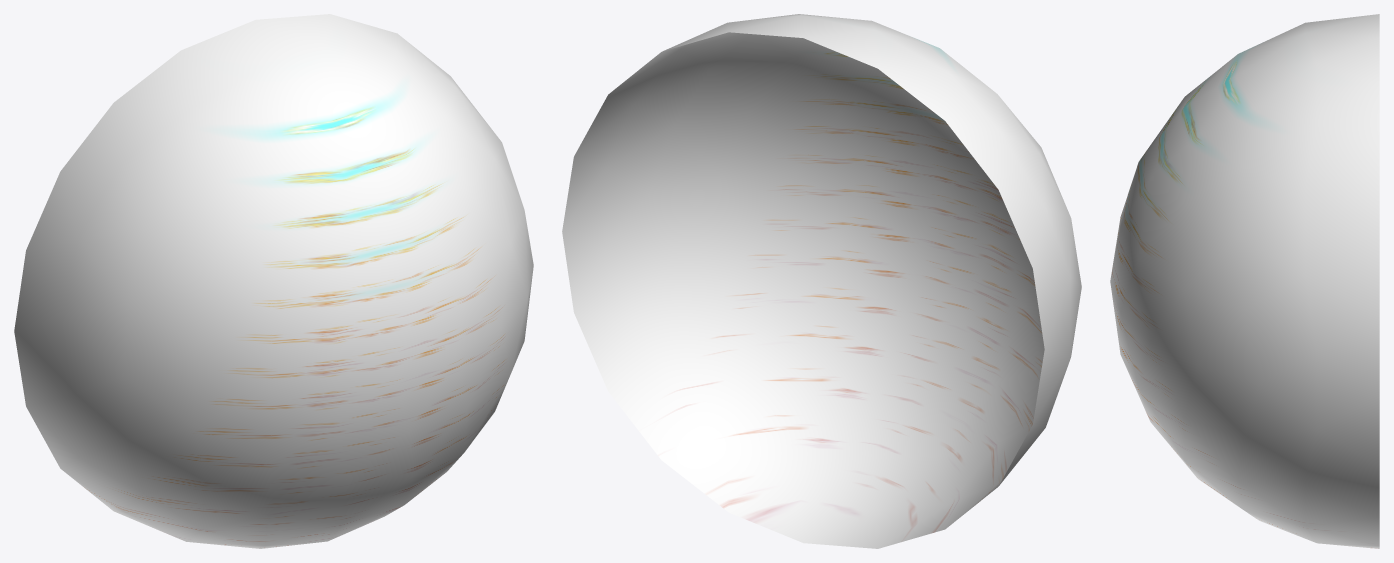
File: spherehemis.obj
The picture shows the model from 3 angles, left to right: view 1: azimuth 30°, elevation 25°; view 2: azimuth 150°, elevation 25°; view 3: azimuth 270°, elevation 25°; orthographic projection. The views are drawn at different scales.
Bounding box in the file's own units: 4 × 4 × 2.
